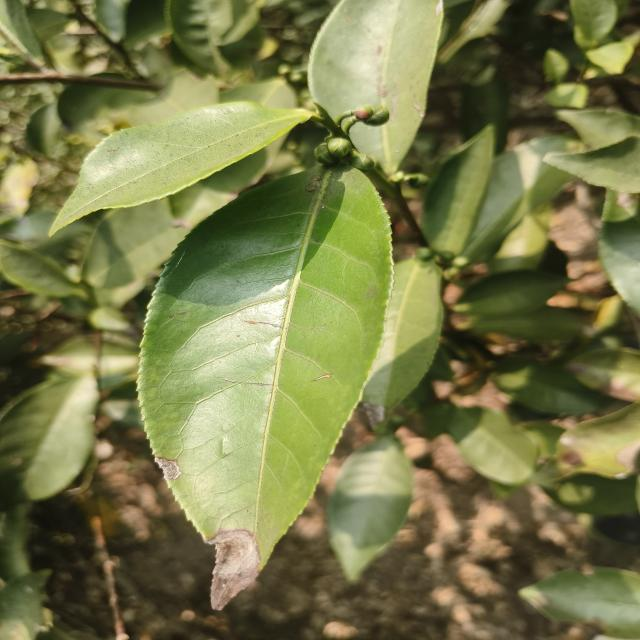Leaf: (138, 167, 392, 610), (50, 102, 311, 235), (308, 0, 444, 173), (461, 135, 584, 263), (361, 258, 443, 427), (0, 374, 98, 509), (327, 434, 413, 580), (169, 137, 284, 229), (422, 125, 494, 257), (83, 199, 188, 289), (426, 405, 538, 485), (519, 568, 640, 640), (536, 403, 640, 484), (165, 0, 262, 73), (494, 359, 608, 415), (544, 136, 640, 193), (453, 270, 569, 316), (126, 68, 219, 125), (0, 239, 88, 298), (565, 348, 640, 402), (599, 218, 640, 314), (41, 336, 139, 376), (556, 109, 640, 148), (0, 156, 38, 224), (221, 78, 297, 109), (570, 0, 618, 46), (26, 103, 61, 158), (586, 41, 634, 75), (546, 83, 588, 108)
